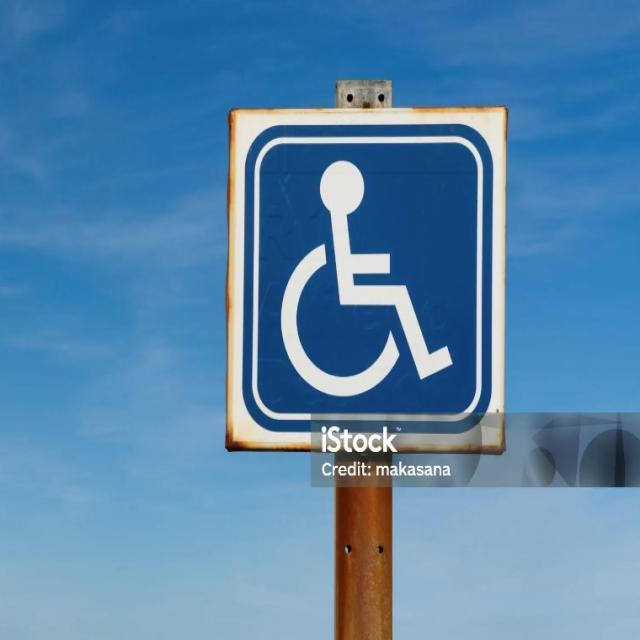symbol_of_access: (220, 102, 506, 452)
